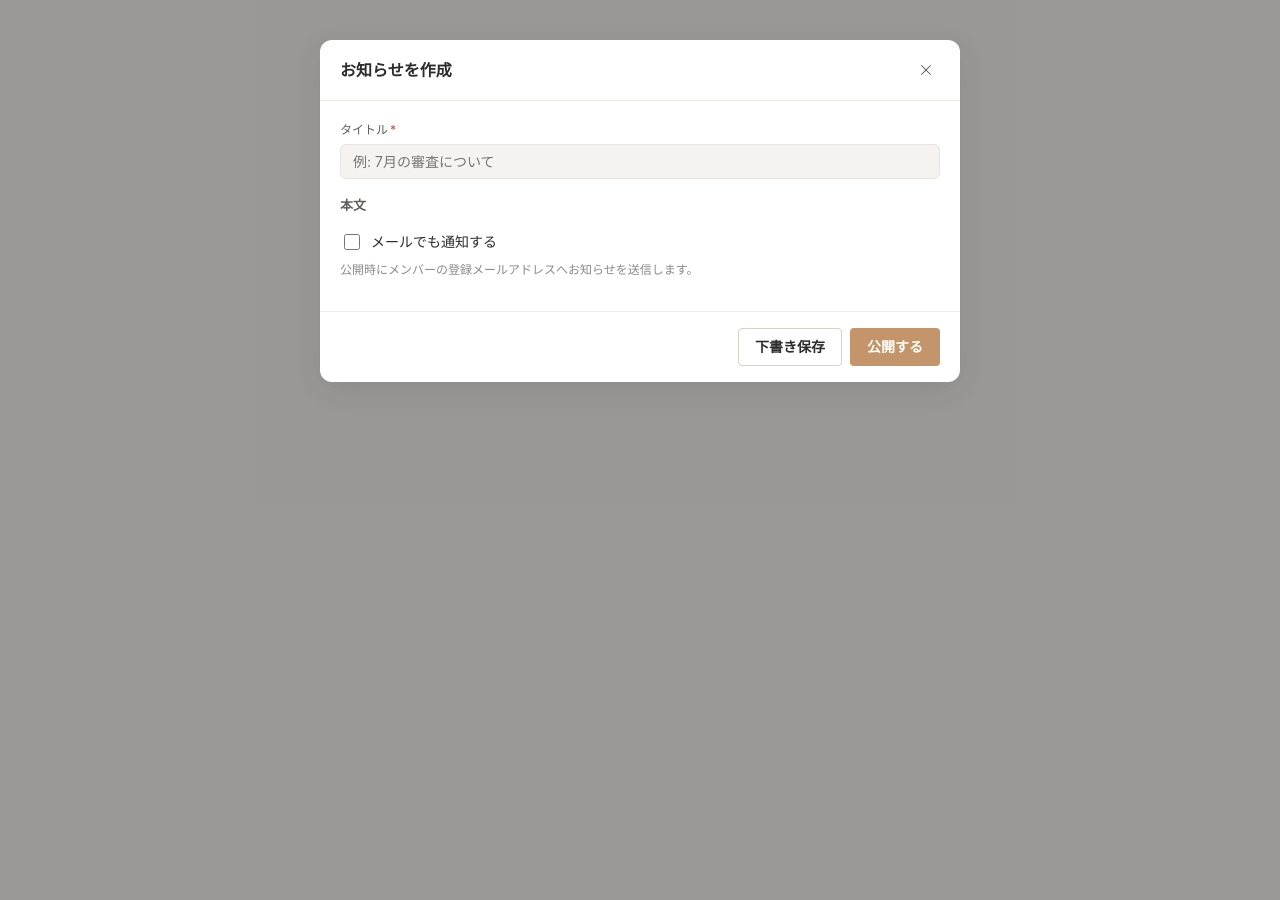
Scenario: AnnouncementForm › タイトル未入力では保存しない
Click the button "下書き保存" at (790, 347), box [738,328,842,366]
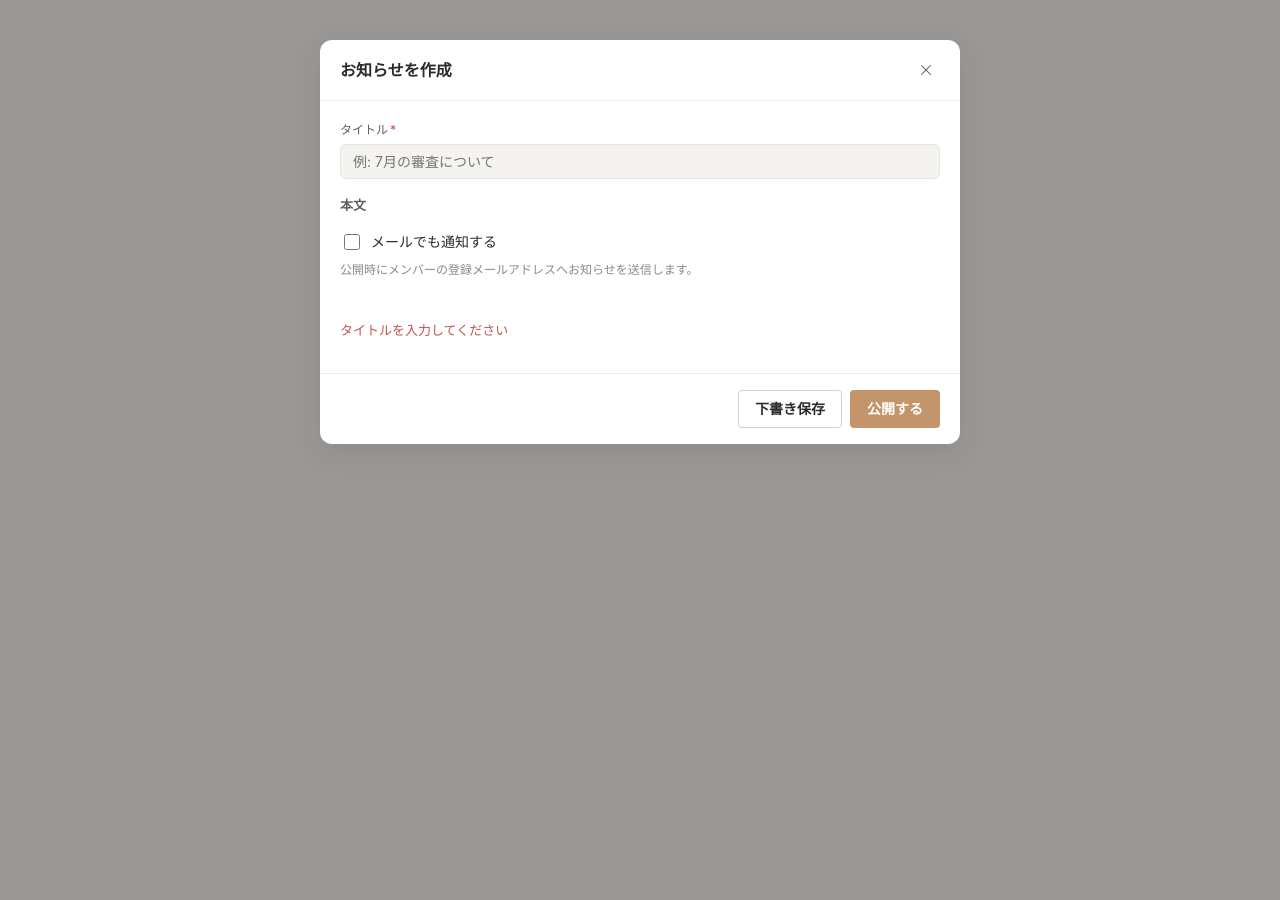
Check: the text "タイトルを入力してください" is shown, box [340,322,508,338]
